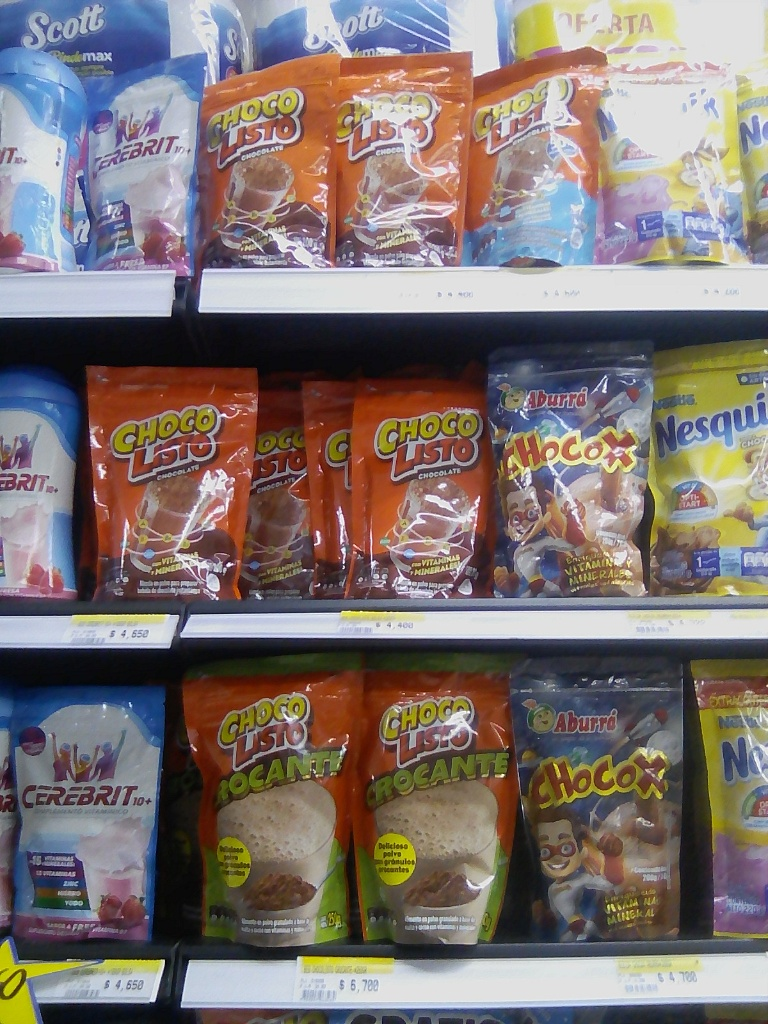COL0170104DYP20000: (467, 40, 604, 266)
